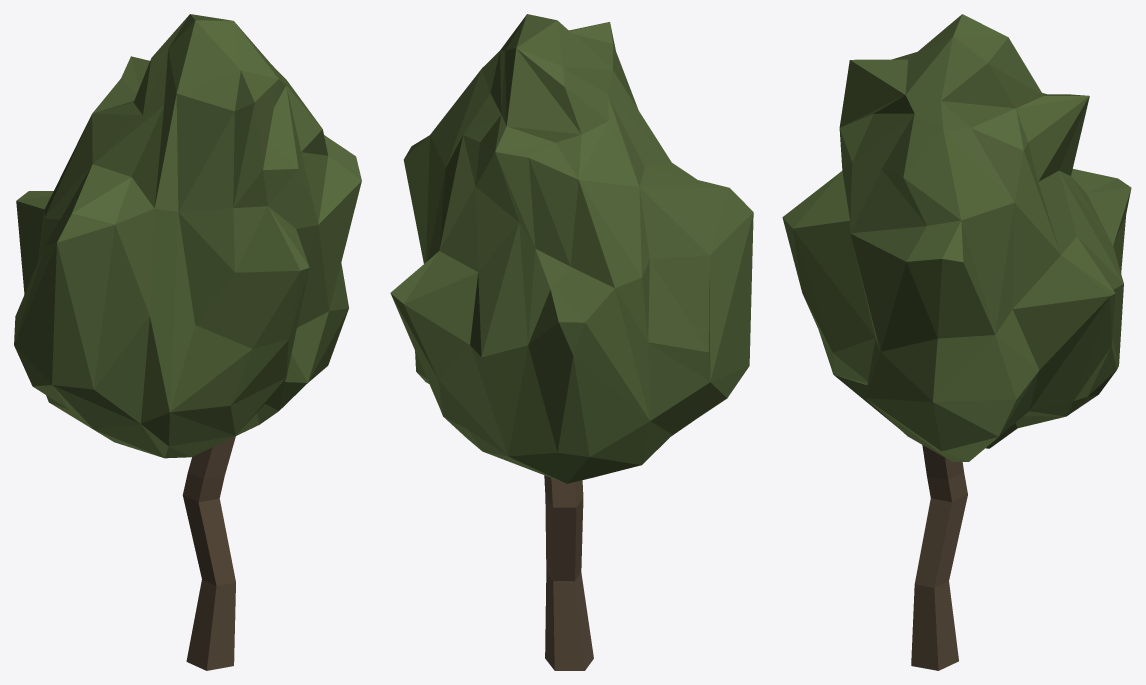
File: tree_013.fbx
3 views of the same model, side by side, from view 1: azimuth 30°, elevation 25°; view 2: azimuth 150°, elevation 25°; view 3: azimuth 270°, elevation 25° (orthographic). The views are drawn at different scales.
Parts seen in each view (by area): view 1: tree_013; view 2: tree_013; view 3: tree_013.
Part boxes in pixels (x1,y1,x2,y2): tree_013: (14,14,361,670); tree_013: (390,14,753,670); tree_013: (782,14,1131,670).
Size of the model in its own units: 0.4476 by 0.8553 by 0.4194.
1 material, 1 textured.
